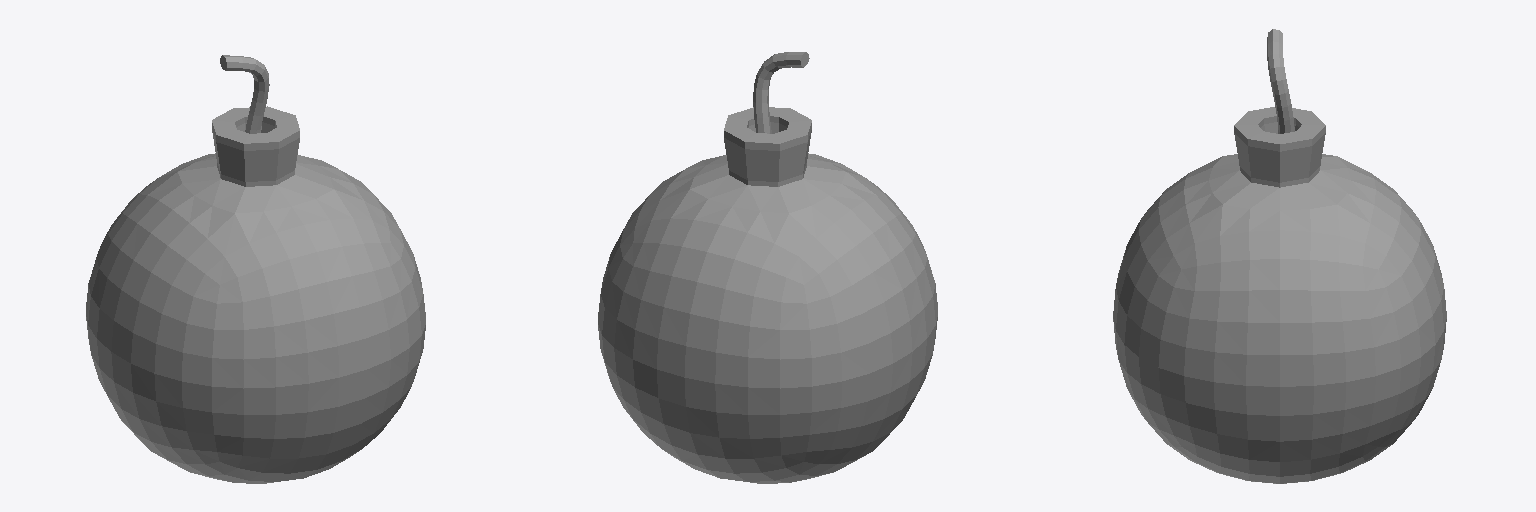
The model's file is bomb.obj.
3 views of the same model, side by side, from view 1: azimuth 30°, elevation 25°; view 2: azimuth 150°, elevation 25°; view 3: azimuth 270°, elevation 25° (orthographic).
Parts seen in each view (by area): view 1: Bomb; view 2: Bomb; view 3: Bomb.
Part boxes in pixels (x1,y1,x2,y2): Bomb: (86,55,425,483); Bomb: (598,52,937,483); Bomb: (1113,29,1446,483).
Size of the model in its own units: 4.5 by 6.25 by 4.5.